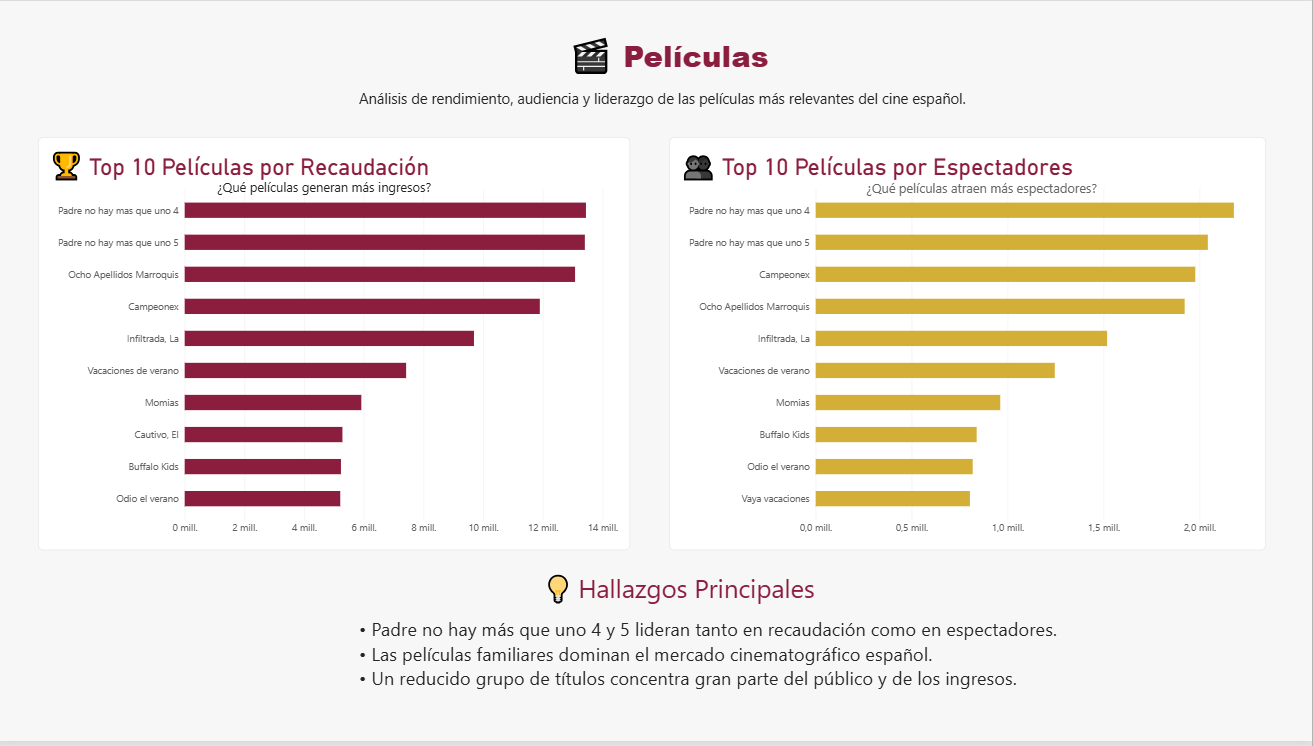

The page's visual inventory and layout, read from the dashboard file:
{"tool":"powerbi","page":{"name":"🎬 Películas","canvas":[1920,1080],"ordinal":2},"visuals":[{"type":"textbox","box":[757.2,43.8,449.4,83.2],"z":0},{"type":"clusteredBarChart","title":"🏆 Top 10 Películas por Recaudación","fields":{"Category":["taquilla_limpia.titulo"],"Y":["Sum(taquilla_limpia.recaudacion)"]},"box":[61.7,198.4,863.7,602.6],"z":0,"group":"g1"},{"type":"textbox","box":[529.6,126.9,955.6,61.3],"z":1000},{"type":"textbox","box":[43,257.6,872.5,40.9],"z":1000,"group":"g1"},{"type":"clusteredBarChart","title":"👥 Top 10 Películas por Espectadores","fields":{"Category":["taquilla_limpia.titulo"],"Y":["Sum(taquilla_limpia.espectadores)"]},"box":[981.9,198.4,871,602.6],"z":2000},{"type":"textbox","box":[981.9,259.7,911.9,77.3],"z":3000},{"type":"group","id":"g1","title":"Grupo 1","box":[43,198.4,882.4,602.6],"z":4000},{"type":"textbox","box":[529.6,897.3,1030,156.1],"z":5000},{"type":"textbox","box":[801,831.6,522.3,65.7],"z":6000}]}

Visuals, with their boxes in screenshot pixels (x1, y1, x2, y2), scaled from the page's 1920x1080 canvas onto the 1313x746 screenshot:
textbox: (x1=518, y1=30, x2=825, y2=88)
"🏆 Top 10 Películas por Recaudación" clusteredBarChart: (x1=42, y1=137, x2=633, y2=553)
textbox: (x1=362, y1=88, x2=1016, y2=130)
textbox: (x1=29, y1=178, x2=626, y2=206)
"👥 Top 10 Películas por Espectadores" clusteredBarChart: (x1=671, y1=137, x2=1267, y2=553)
textbox: (x1=671, y1=179, x2=1295, y2=233)
"Grupo 1" group: (x1=29, y1=137, x2=633, y2=553)
textbox: (x1=362, y1=620, x2=1067, y2=728)
textbox: (x1=548, y1=574, x2=905, y2=620)
